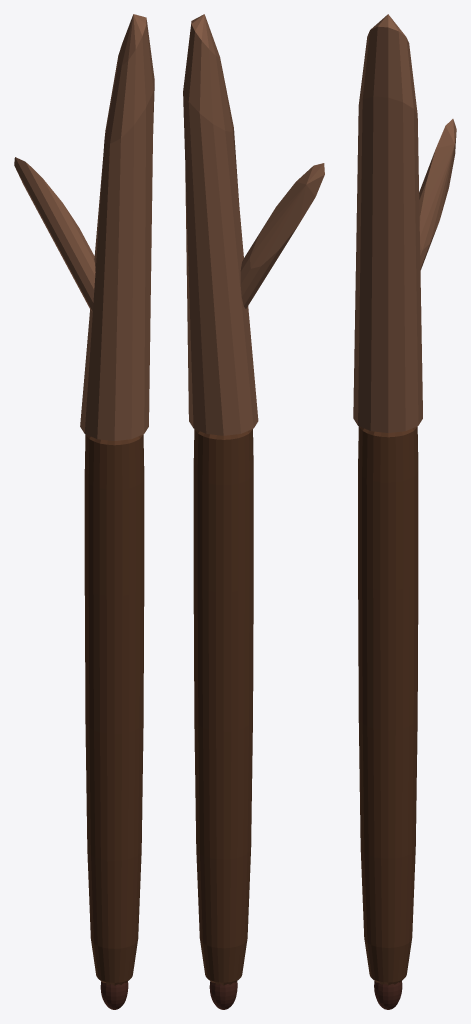
File: Wand 66.glb
The picture shows the model from 3 angles, left to right: view 1: azimuth 30°, elevation 25°; view 2: azimuth 210°, elevation 25°; view 3: azimuth 270°, elevation 25°; orthographic projection.
Visible parts, largest first — view 1: GeneratedWand; view 2: GeneratedWand; view 3: GeneratedWand.
Boxes of the visible parts, x1,y1,x2,y2 form: GeneratedWand: [14, 14, 154, 1009]; GeneratedWand: [183, 14, 324, 1009]; GeneratedWand: [353, 14, 456, 1009].
Bounding box in the file's own units: 0.0578 × 0.4998 × 0.0466.
